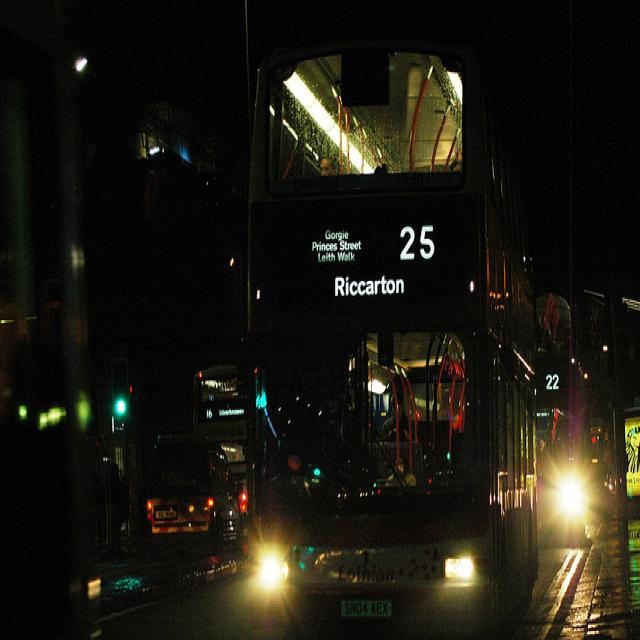Bus: (244, 37, 549, 634), (533, 246, 640, 449), (183, 336, 280, 518)
People: (94, 441, 126, 565)
car: (140, 406, 240, 594), (551, 428, 619, 560)
